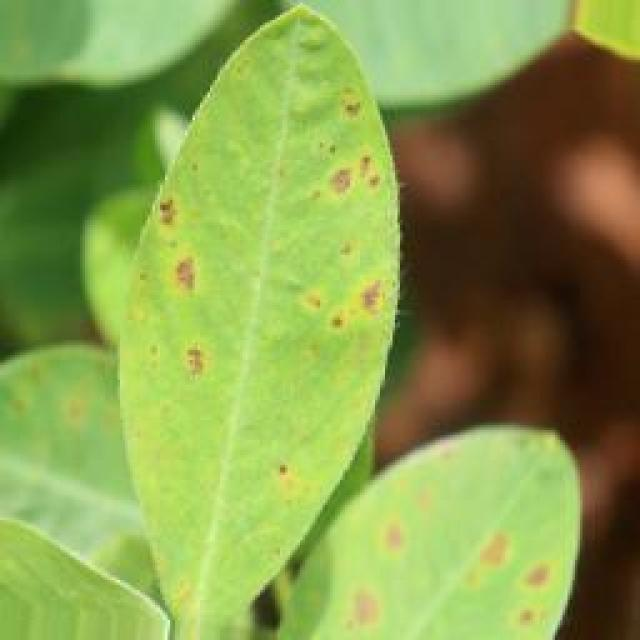Sigatoka: (296, 429, 572, 640), (144, 190, 233, 401), (302, 72, 389, 220), (295, 232, 394, 354), (248, 442, 334, 527)
